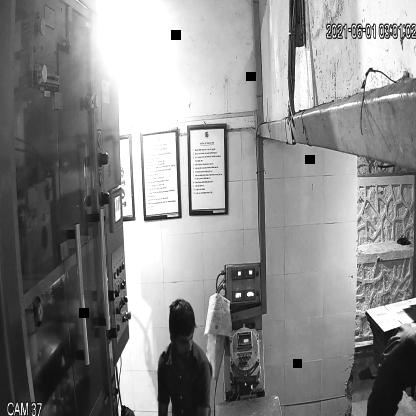no_goggles: (166, 327, 194, 350)
